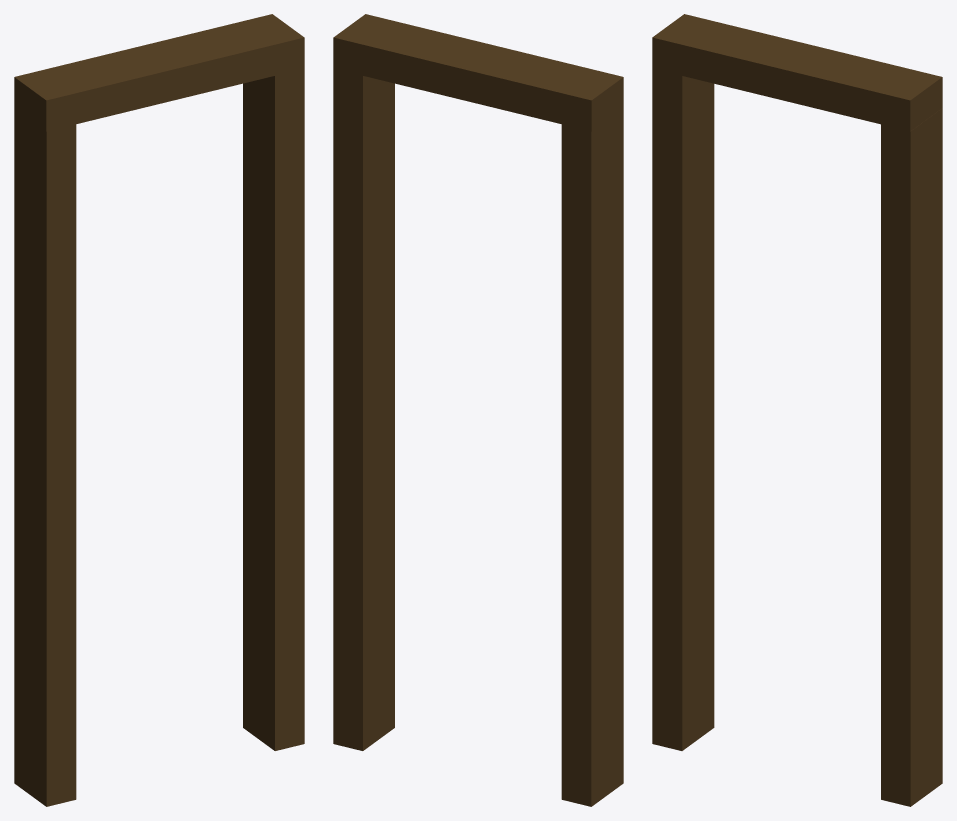
File: doorway.fbx
The picture shows the model from 3 angles, left to right: view 1: azimuth 30°, elevation 25°; view 2: azimuth 150°, elevation 25°; view 3: azimuth 330°, elevation 25°; orthographic projection.
Visible parts, largest first — view 1: pCube4; view 2: pCube4; view 3: pCube4.
Boxes of the visible parts, x1,y1,x2,y2 form: pCube4: (14, 14, 304, 806); pCube4: (333, 14, 623, 806); pCube4: (652, 14, 942, 806).
Bounding box in the file's own units: 2.19 × 5.74 × 0.4725.
